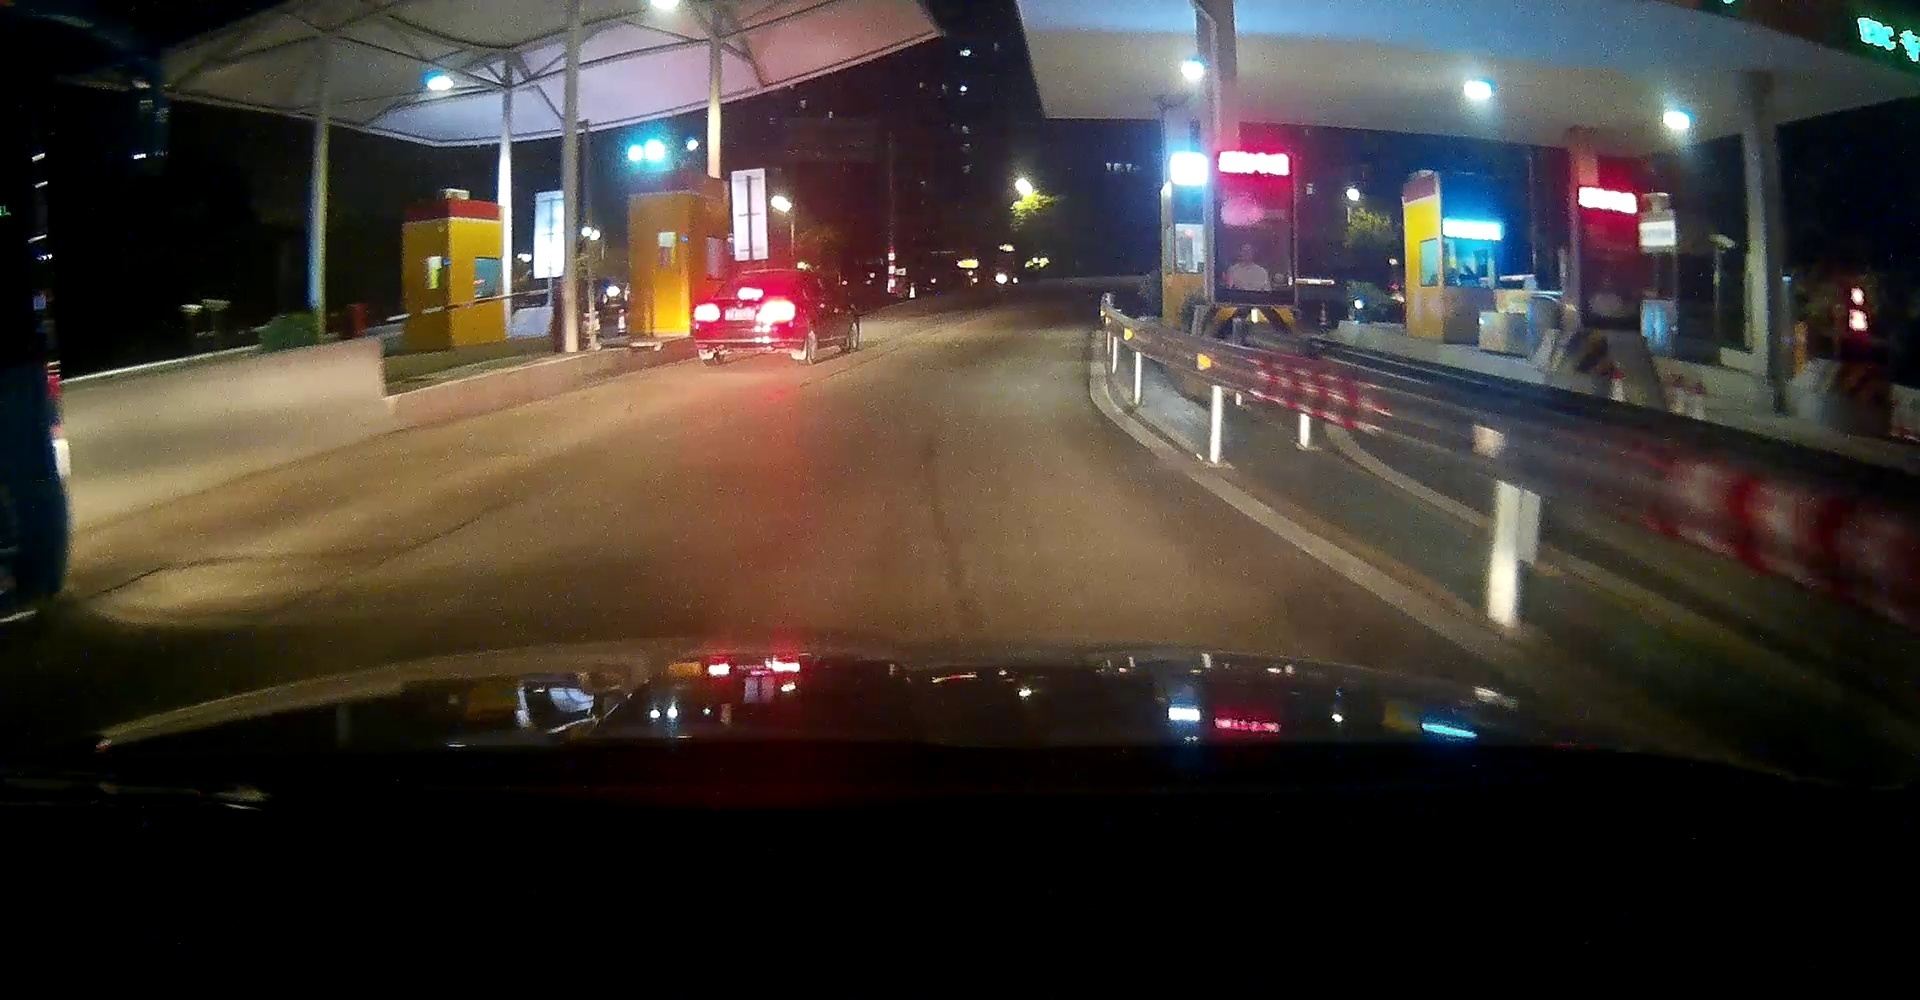L_light: (695, 302, 720, 321)
R_light: (759, 299, 795, 322)
T_light: (737, 287, 762, 299)
night-brake: (693, 268, 797, 364)
